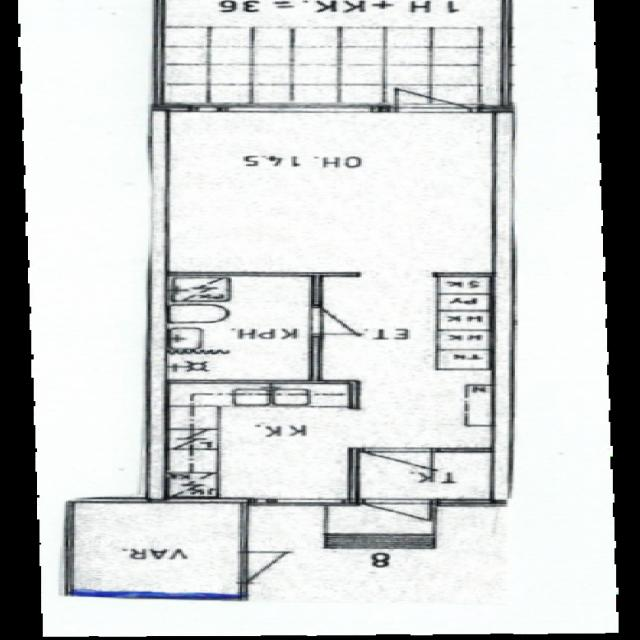door: (392, 68, 474, 110), (365, 498, 433, 534), (241, 553, 321, 583), (365, 447, 432, 480), (311, 308, 377, 334)
